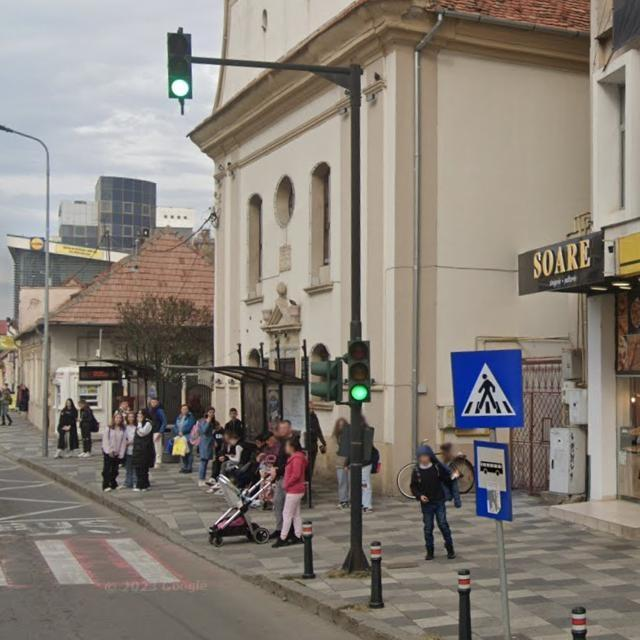info_crosswalk: (452, 349, 524, 429)
